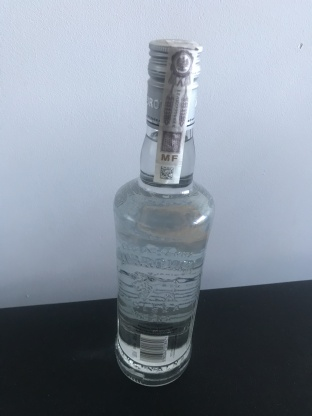nakretka: (143, 32, 206, 133)
